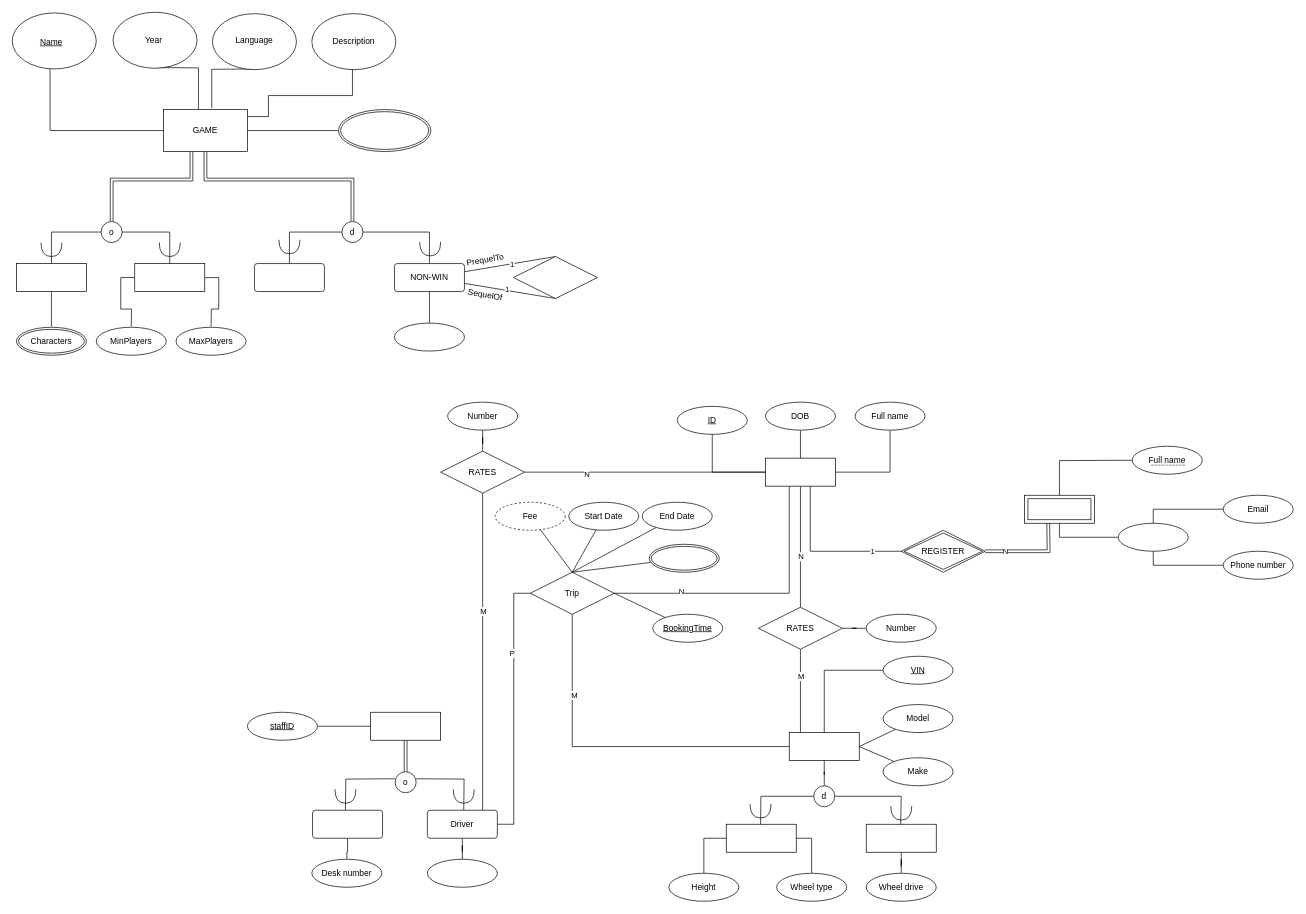
This 1306x914 diagram has some shape labels left out. The centre of each missing label's shape, as x and y in pixels:
2WD: (901,838)
4WD: (761,838)
Administration: (347,824)
Console: (384,130)
ContactDetails: (1153,537)
Emergency: (1059,509)
License number: (462,873)
Locations: (684,558)
MULTIPLAYER: (169,277)
Purpose: (429,336)
SEQUEL: (555,277)
SINGLEPLAYER: (51,277)
Staff: (405,726)
User: (800,471)
Vehicle: (824,746)
WINNABLE: (289,277)
